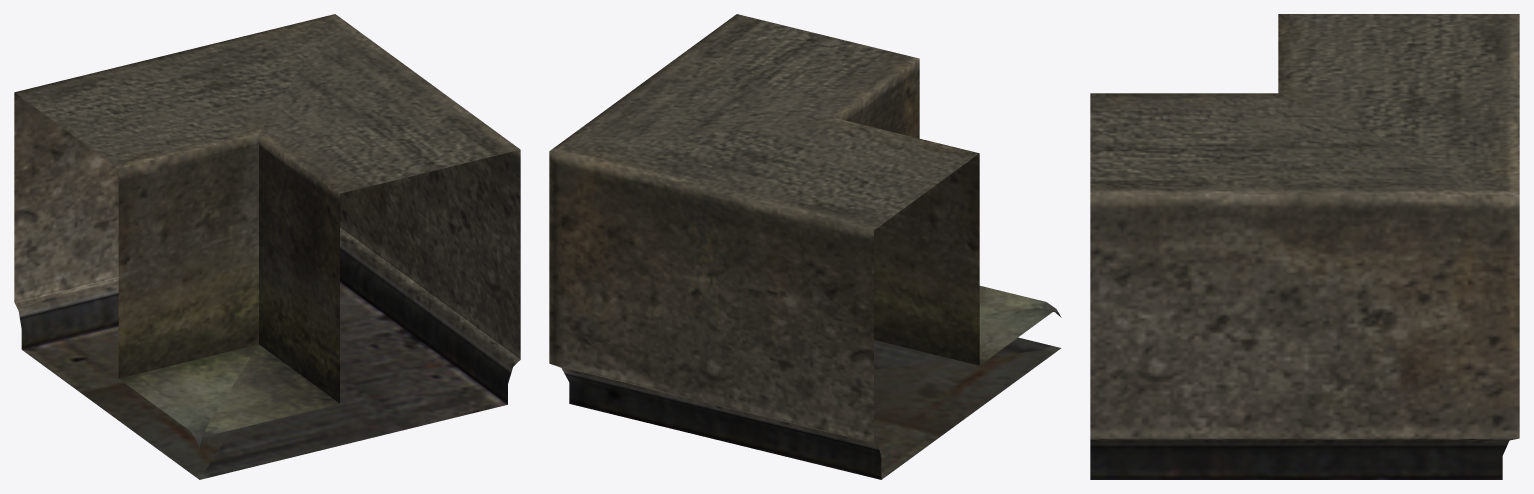
File: downtown_walltrim_top_L_positive_corner.fbx
The picture shows the model from 3 angles, left to right: view 1: azimuth 30°, elevation 25°; view 2: azimuth 150°, elevation 25°; view 3: azimuth 270°, elevation 25°; orthographic projection. The views are drawn at different scales.
Parts seen in each view (by area): view 1: downtown_walltrim_top_L_positive_corner; view 2: downtown_walltrim_top_L_positive_corner; view 3: downtown_walltrim_top_L_positive_corner.
Boxes of the visible parts, x1=… form: downtown_walltrim_top_L_positive_corner: x1=14, y1=14, x2=520, y2=479; downtown_walltrim_top_L_positive_corner: x1=549, y1=14, x2=1061, y2=479; downtown_walltrim_top_L_positive_corner: x1=1090, y1=14, x2=1519, y2=479.
Bounding box in the file's own units: 0.32 × 0.24 × 0.32.
